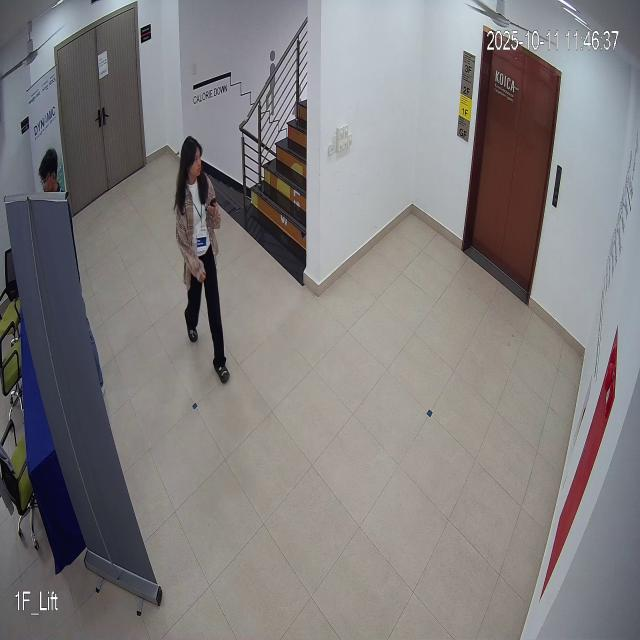face: (176, 133, 208, 198)
